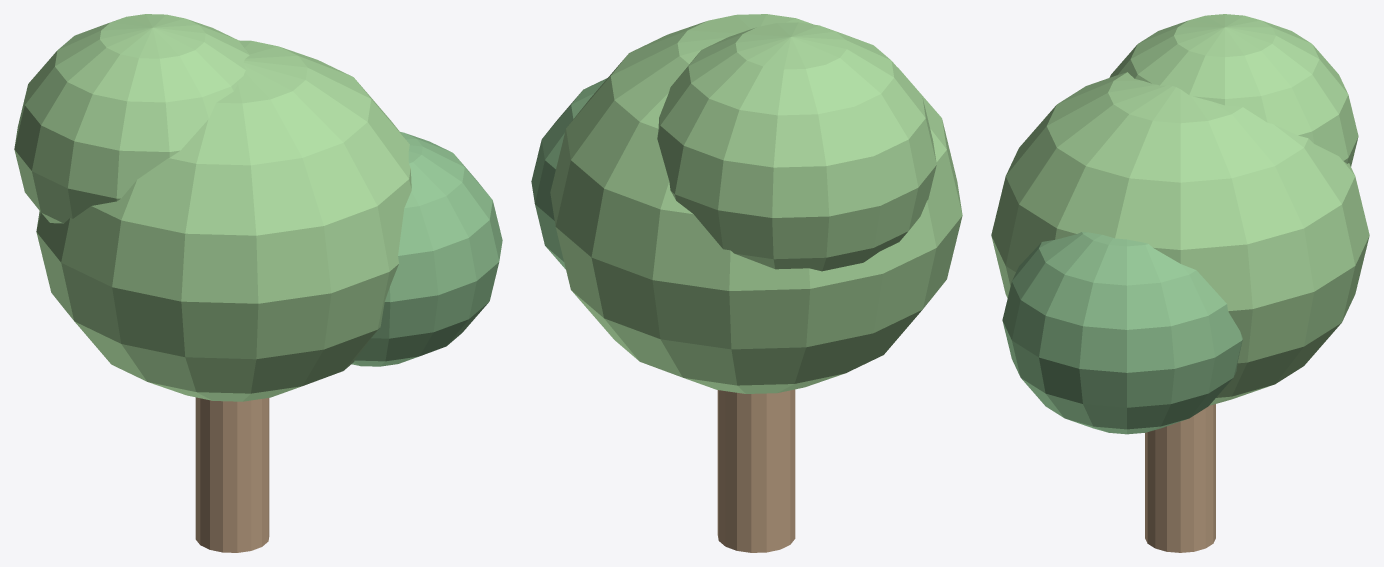
Rendered from RoundTree.glb.
3 renders of one model, left to right at view 1: azimuth 30°, elevation 25°; view 2: azimuth 150°, elevation 25°; view 3: azimuth 270°, elevation 25°, orthographic. The views are drawn at different scales.
Visible parts, largest first — view 1: RoundTree_1, RoundTree_0, RoundTree_2; view 2: RoundTree_1, RoundTree_2, RoundTree_0; view 3: RoundTree_1, RoundTree_0, RoundTree_2.
Boxes of the visible parts, left/top/right/bottom form: RoundTree_1: left=14, top=14, right=411, bottom=401; RoundTree_0: left=352, top=132, right=502, bottom=366; RoundTree_2: left=195, top=397, right=269, bottom=552; RoundTree_1: left=550, top=14, right=962, bottom=393; RoundTree_2: left=717, top=389, right=795, bottom=552; RoundTree_0: left=531, top=78, right=607, bottom=269; RoundTree_1: left=991, top=14, right=1369, bottom=405; RoundTree_0: left=1002, top=232, right=1242, bottom=434; RoundTree_2: left=1145, top=404, right=1215, bottom=552.
Size of the model in its own units: 10 by 12 by 8.5.
